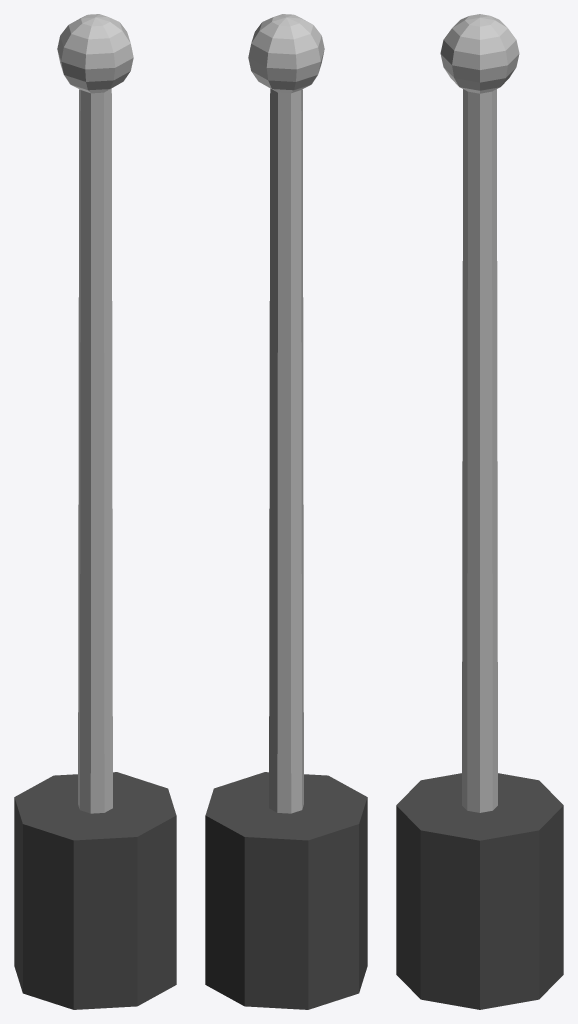
The model's file is Prop_Intel_02.fbx.
The picture shows the model from 3 angles, left to right: view 1: azimuth 30°, elevation 25°; view 2: azimuth 150°, elevation 25°; view 3: azimuth 270°, elevation 25°; orthographic projection.
Parts seen in each view (by area): view 1: Prop_Intel_02; view 2: Prop_Intel_02; view 3: Prop_Intel_02.
Boxes of the visible parts, x1,y1,x2,y2 form: Prop_Intel_02: (14, 14, 176, 1009); Prop_Intel_02: (205, 14, 367, 1009); Prop_Intel_02: (396, 14, 563, 1009).
Bounding box in the file's own units: 37.8 × 238 × 37.8.
